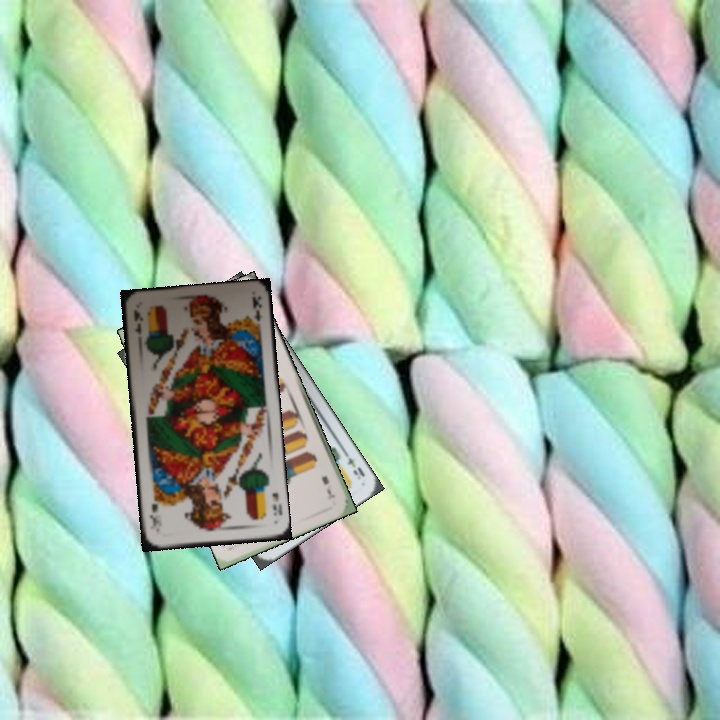E7: (317, 472, 338, 502)
EK: (339, 446, 368, 482), (130, 306, 145, 338), (268, 489, 284, 518)
